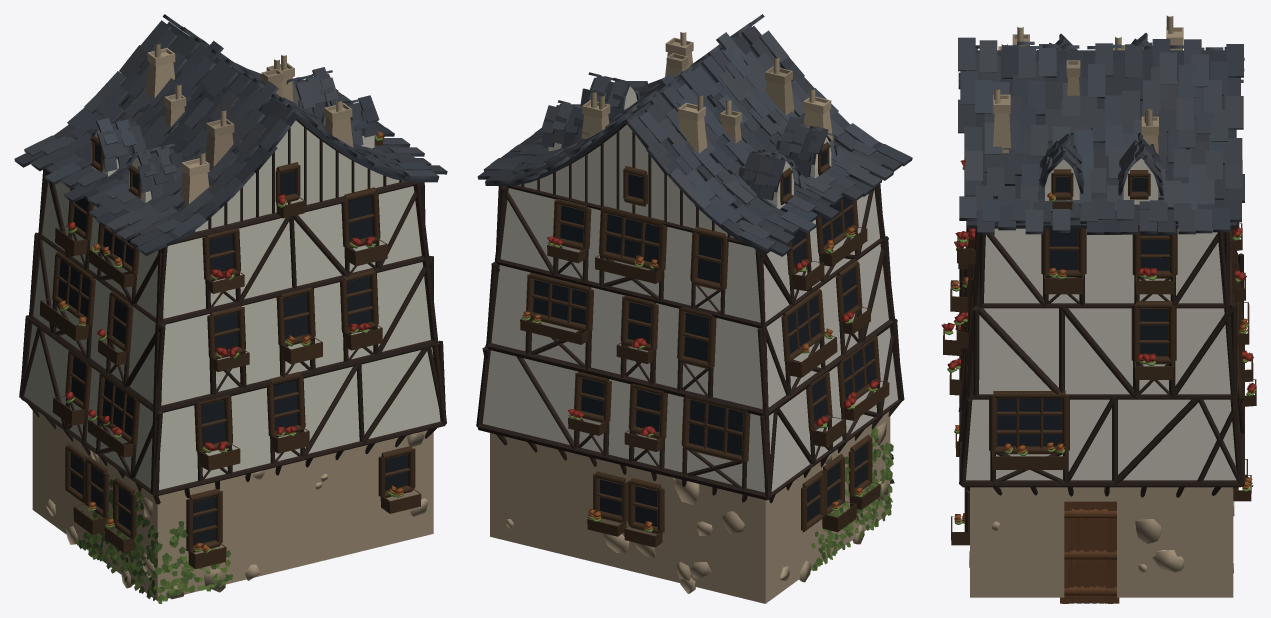
File: house_15.glb
3 renders of one model, left to right at view 1: azimuth 30°, elevation 25°; view 2: azimuth 150°, elevation 25°; view 3: azimuth 270°, elevation 25°, orthographic. The views are drawn at different scales.
Visible parts, largest first — view 1: house_15; view 2: house_15; view 3: house_15.
Part boxes in pixels (x1,y1,x2,y2): house_15: [14, 14, 447, 603]; house_15: [476, 14, 912, 603]; house_15: [941, 15, 1256, 603].
Bounding box in the file's own units: 7.12 × 10.2 × 5.83.
